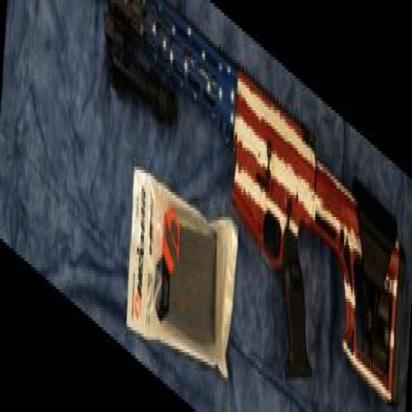Gun: (96, 0, 410, 393)
